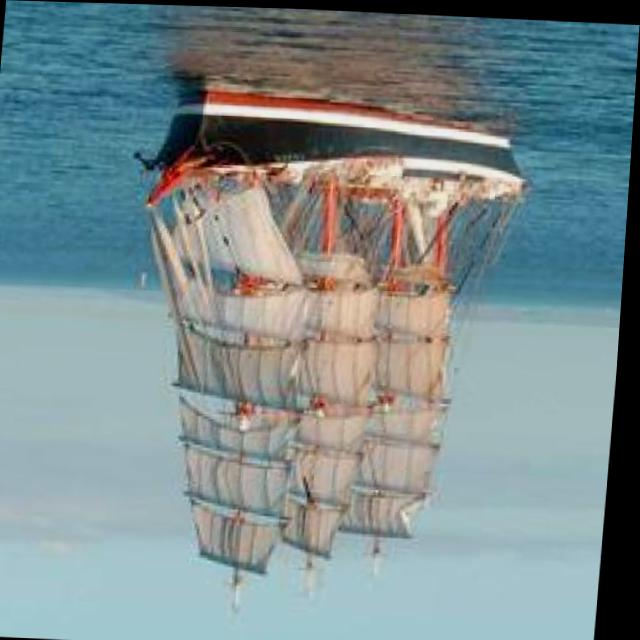ship2: (132, 85, 533, 613)
